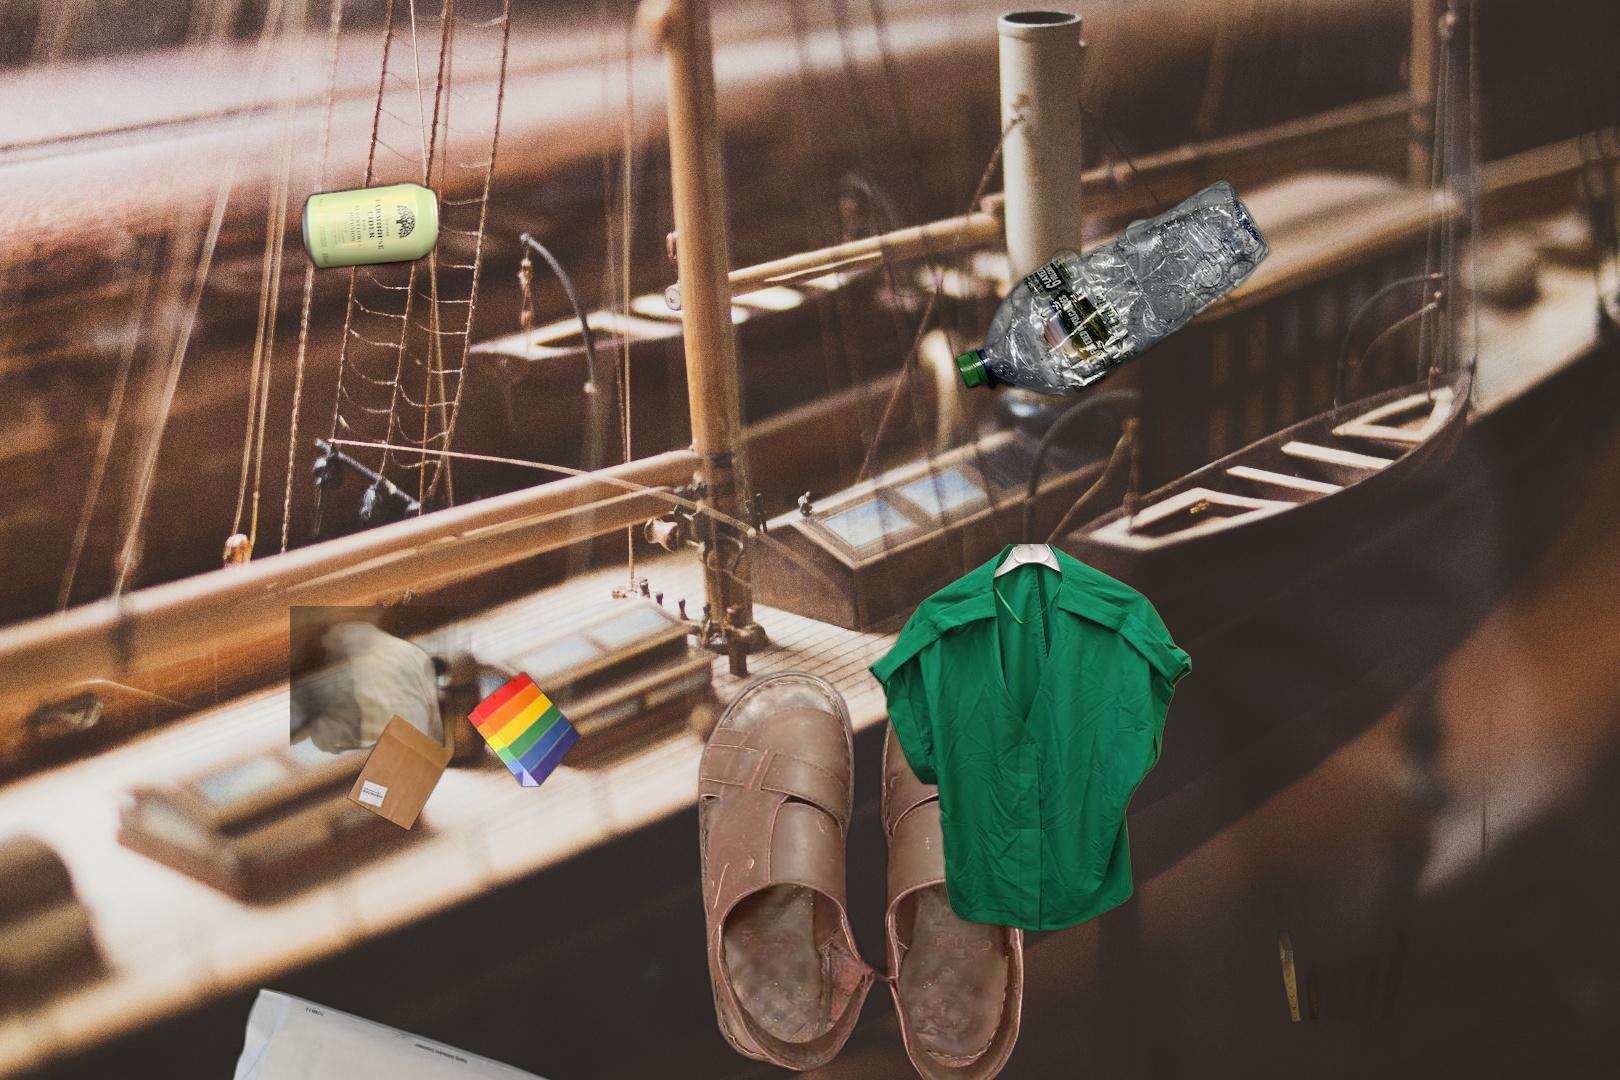clothes: (865, 544, 1195, 934)
metal-cans: (297, 176, 445, 275)
paper: (193, 985, 606, 1080)
paper-bag: (290, 606, 585, 843)
penholder: (1270, 881, 1420, 1027)
plastic-bottles: (950, 174, 1276, 407)
shoes: (694, 664, 1041, 1080)
